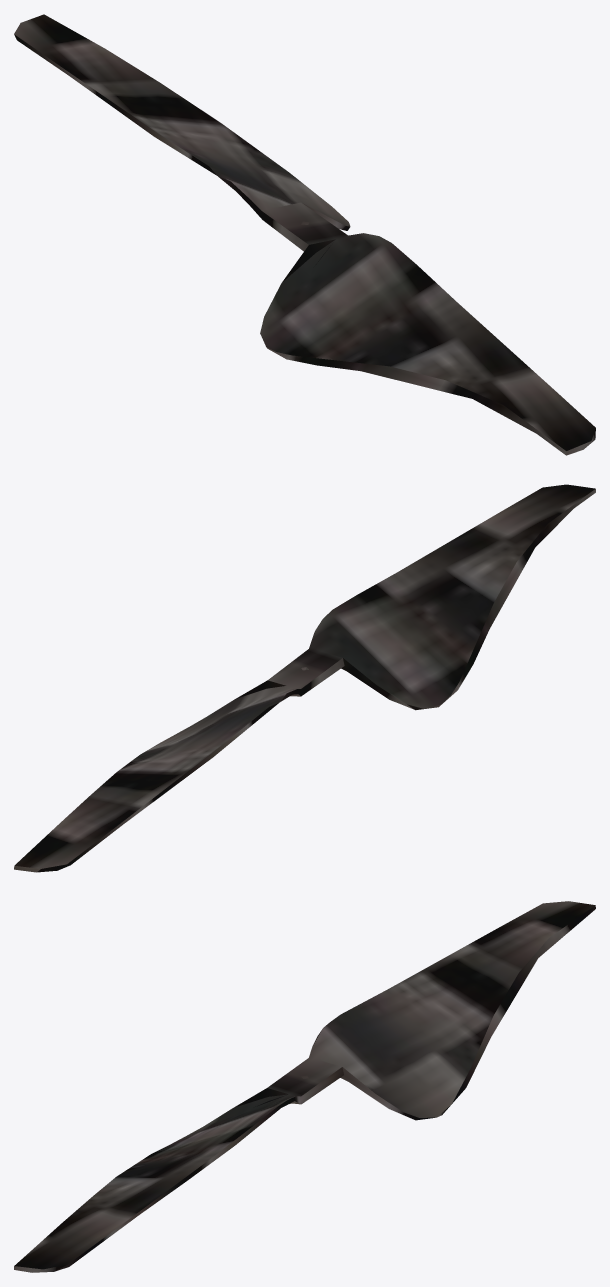
Rendered from propeller_bottom_textured.dae.
3 renders of one model, top to bottom at view 1: azimuth 30°, elevation 25°; view 2: azimuth 150°, elevation 25°; view 3: azimuth 330°, elevation 25°, orthographic. The views are drawn at different scales.
Parts seen in each view (by area): view 1: X8_out_of_box; view 2: X8_out_of_box; view 3: X8_out_of_box.
Boxes of the visible parts, x1,y1,x2,y2 form: X8_out_of_box: [14, 14, 595, 455]; X8_out_of_box: [14, 484, 595, 872]; X8_out_of_box: [14, 901, 595, 1272].
Bounding box in the file's own units: 0.0843 × 0.4465 × 0.0332.
1 material, 1 textured.
